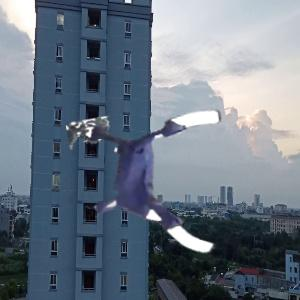drone: (79, 108, 236, 265)
